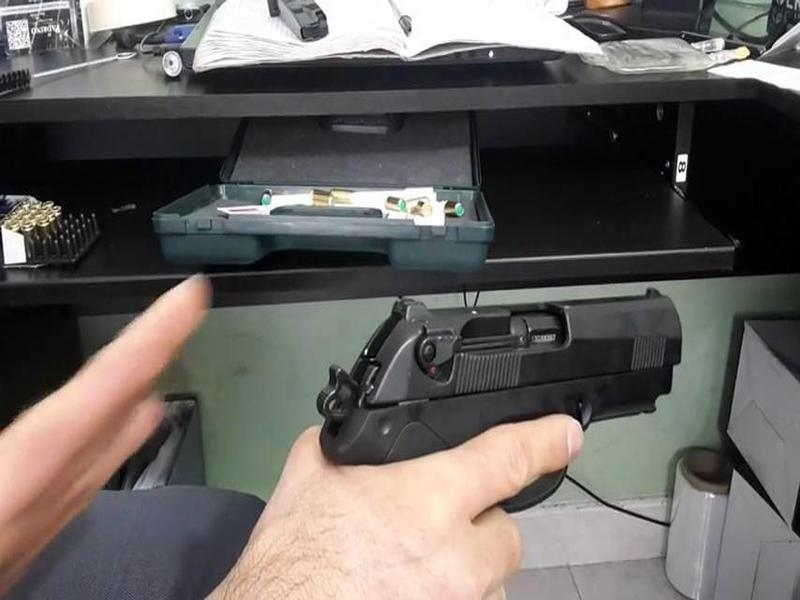Pistola: (264, 277, 716, 538)
